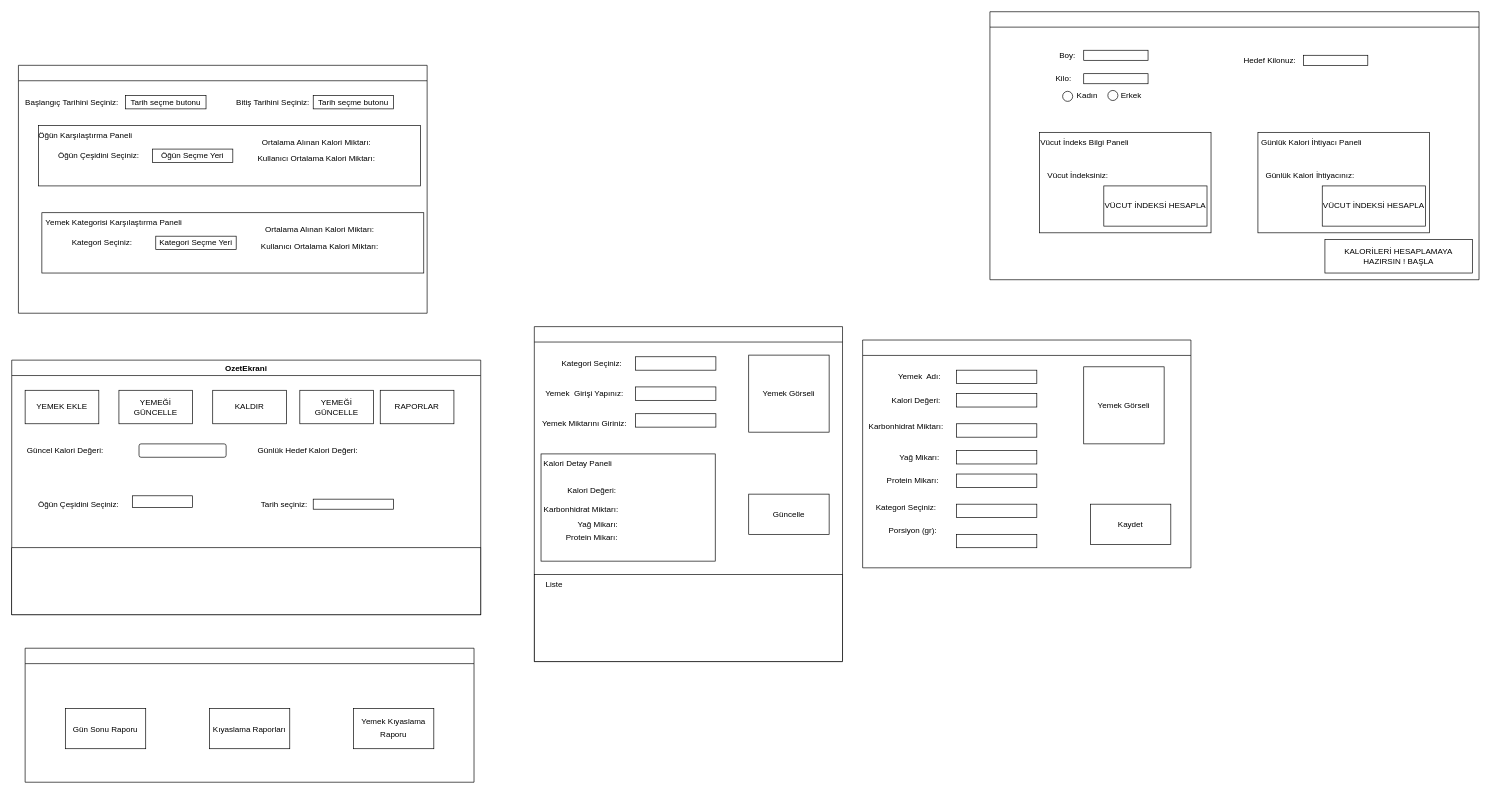
Some shapes in this 1491 by 794 pixel diagram are drawn without their labels. Each missing label, with the box of its shape:
Ana Rapor Ekranı: (24, 648, 474, 782)
Kıyas Raporları: (18, 65, 427, 313)
Manuel Yemek Ekleme Paneli: (862, 339, 1191, 568)
Progress Bar: (138, 443, 226, 457)
Tarih seçilecek: (313, 498, 394, 509)
User Bilgileri Alma Ekranı: (989, 11, 1479, 280)
Yemek Güncelle: (534, 326, 843, 662)
Öğün Seçilecek: (132, 495, 193, 508)
Öğün veYemek Listesi: (11, 547, 481, 615)
